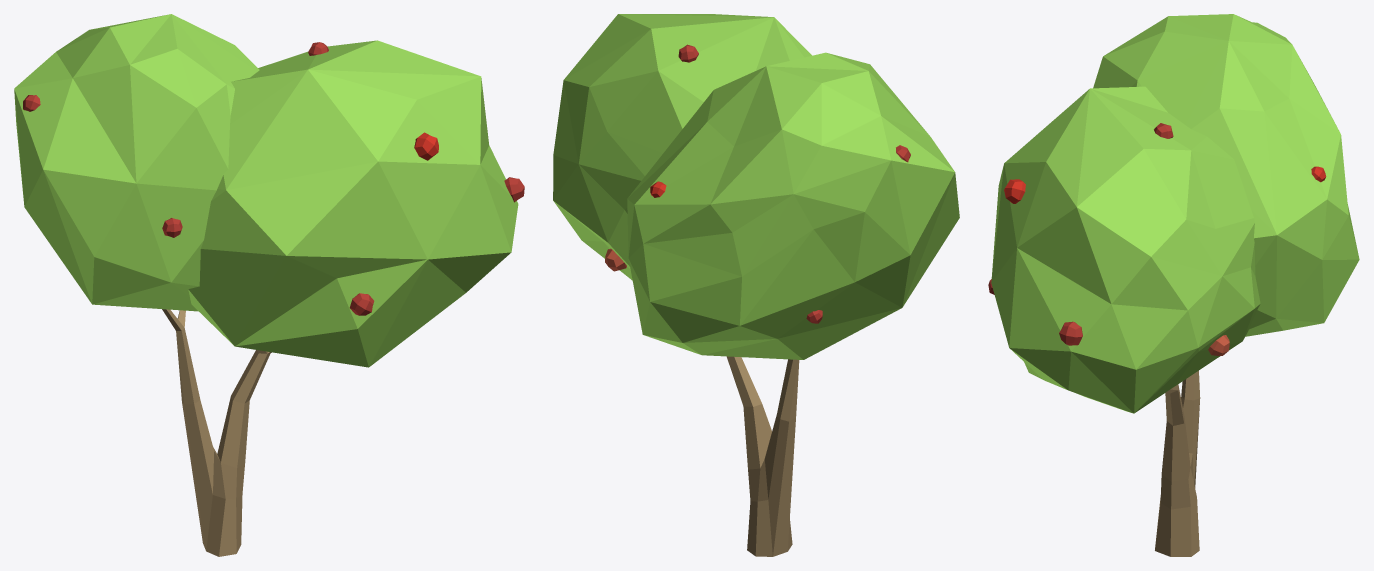
File: Apple_Tree_Apples_m_07_LOD.fbx
3 renders of one model, left to right at view 1: azimuth 30°, elevation 25°; view 2: azimuth 150°, elevation 25°; view 3: azimuth 270°, elevation 25°, orthographic. The views are drawn at different scales.
Parts seen in each view (by area): view 1: Apple_Tree_Apples_m_07_LOD0; view 2: Apple_Tree_Apples_m_07_LOD0; view 3: Apple_Tree_Apples_m_07_LOD0.
Boxes of the visible parts, x1,y1,x2,y2 form: Apple_Tree_Apples_m_07_LOD0: (14,14,524,556); Apple_Tree_Apples_m_07_LOD0: (553,14,959,556); Apple_Tree_Apples_m_07_LOD0: (988,14,1359,556).
Size of what is drawn, in the model's own units: 571 by 657 by 444.
